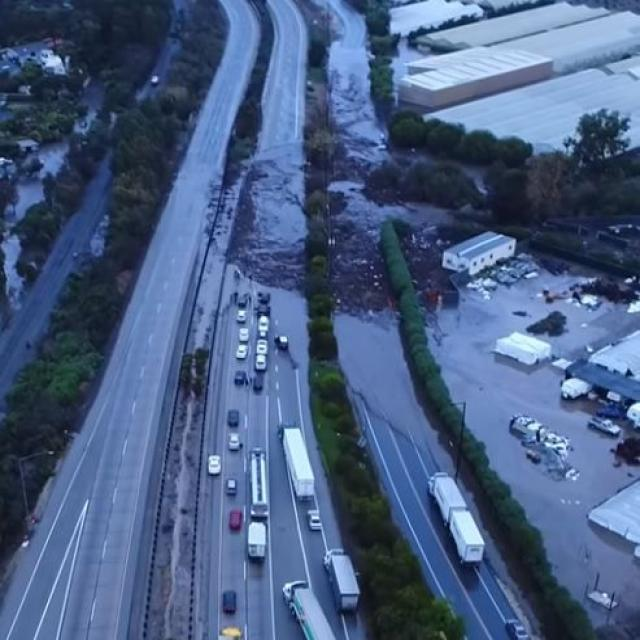traffic_incident: (216, 144, 440, 308)
